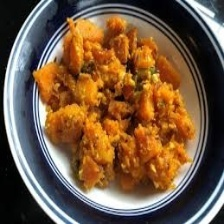sabzi: (34, 15, 196, 191)
